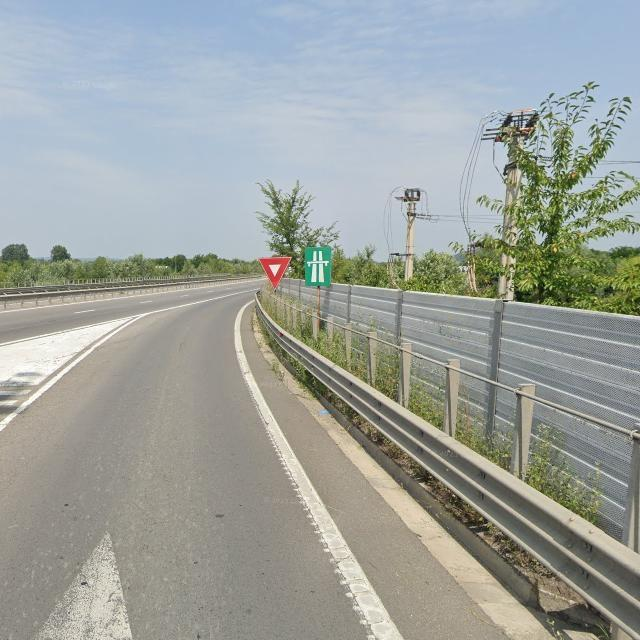prio_give_way: (259, 257, 292, 290)
